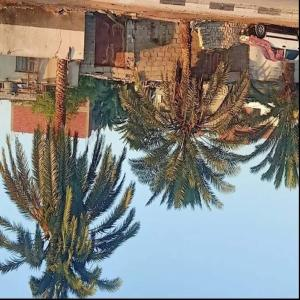palm tree: (0, 119, 140, 299), (249, 60, 299, 190)
